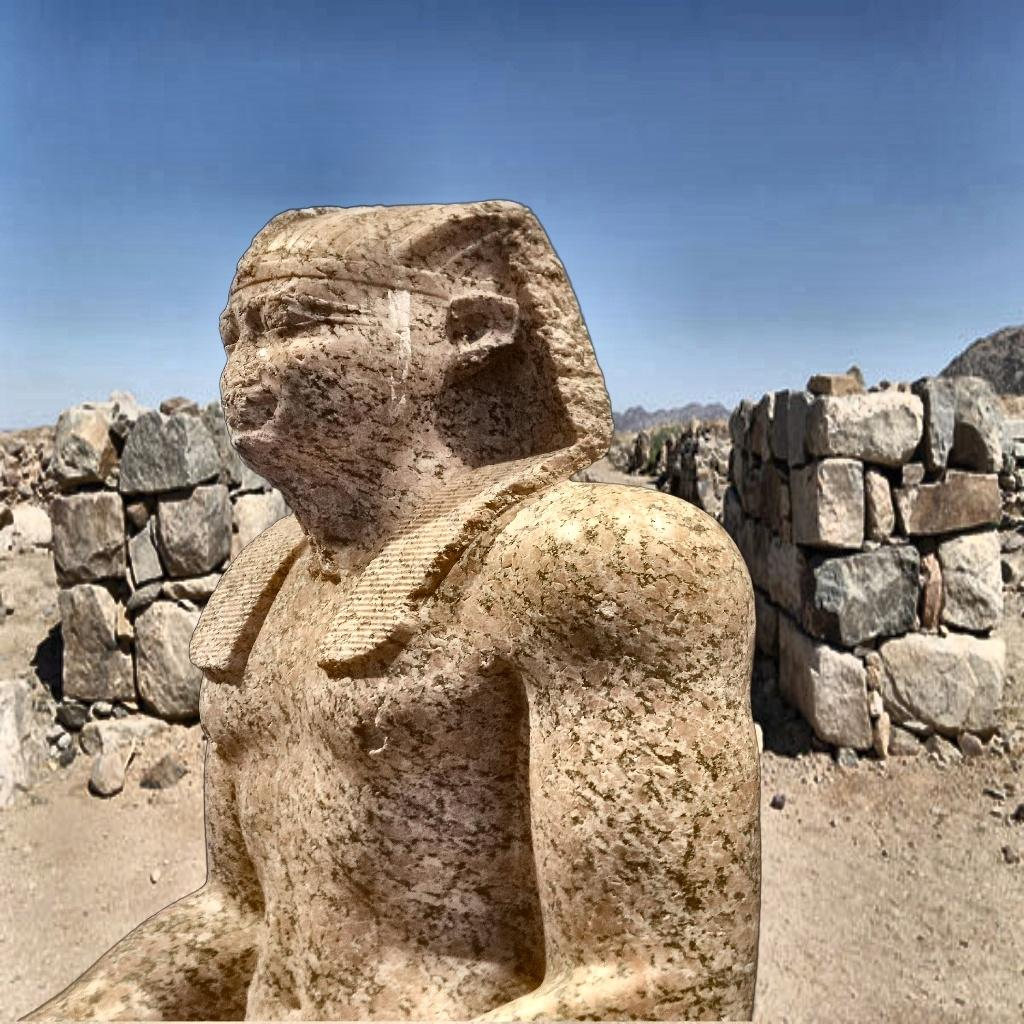Statue of Amenmhat I: (10, 196, 769, 1022)
